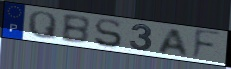3: (128, 23, 154, 53)
A: (156, 27, 190, 58)
B: (60, 14, 92, 45)
F: (190, 28, 223, 62)
Q: (26, 10, 58, 42)
S: (93, 18, 124, 50)
